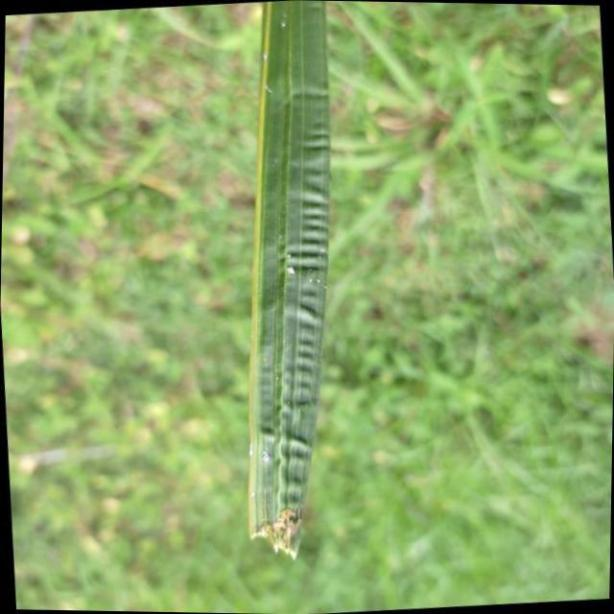Boron: (240, 0, 344, 561)
